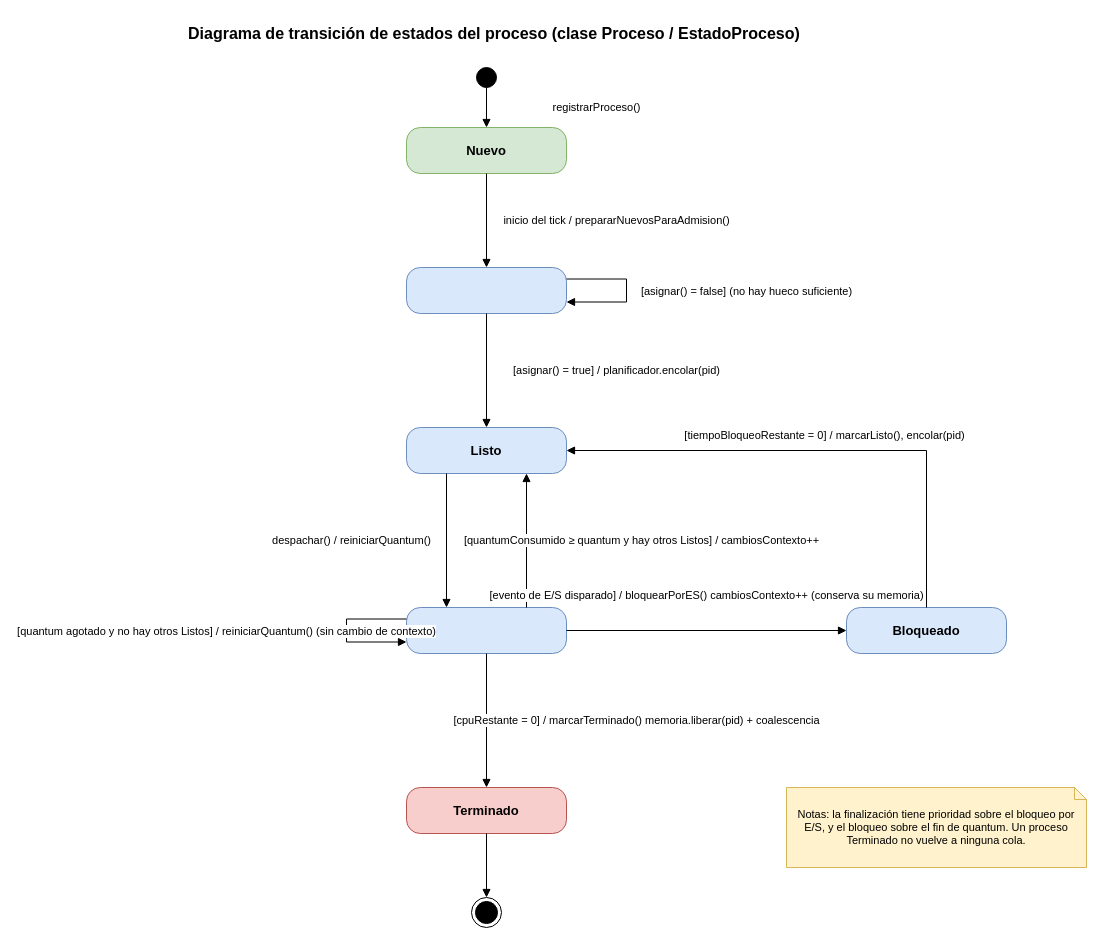
Some shapes in this 1104 by 945 pixel diagram are drawn without their labels. Here are the shapes that lost their labels. From the top down, the box of each, then its label:
(406, 266, 566, 314): Esperando Memoria
(406, 606, 566, 654): Ejecutando
